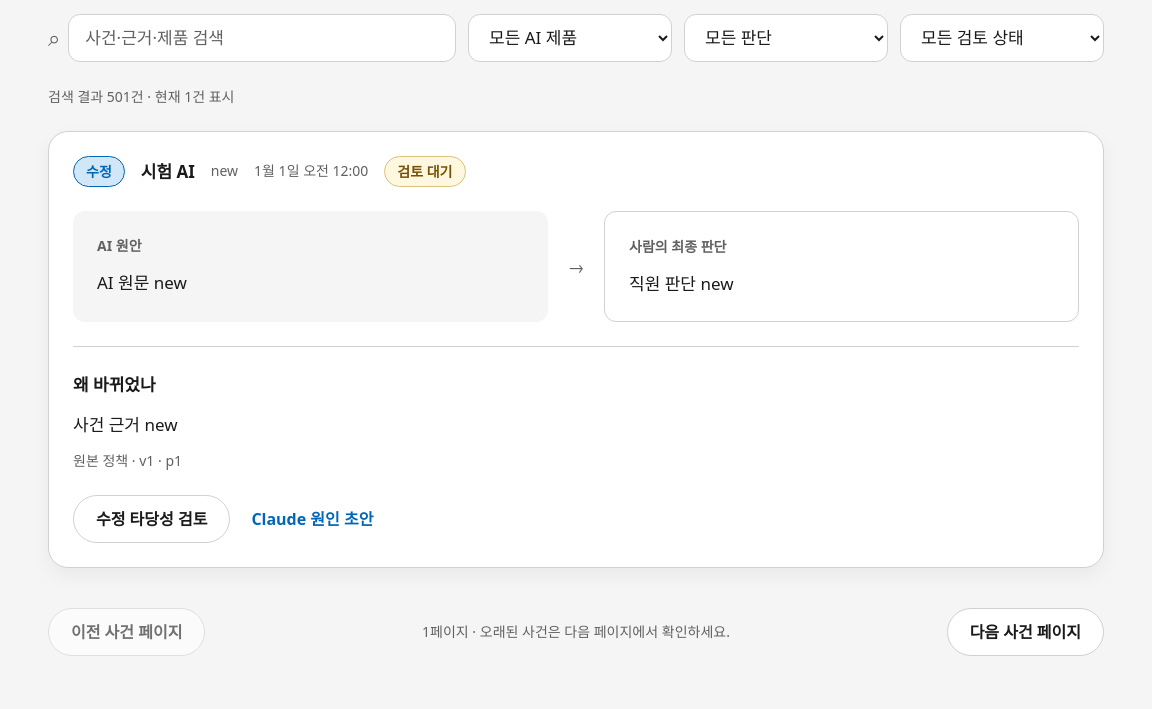
resets filters to the first page and never presents the stale page while a new filter is pending
The width and height of the screenshot is (1152, 709).
(page scrolled)
Click the button "다음 사건 페이지" at (1025, 632), box [947,608,1104,656]
(page scrolled)
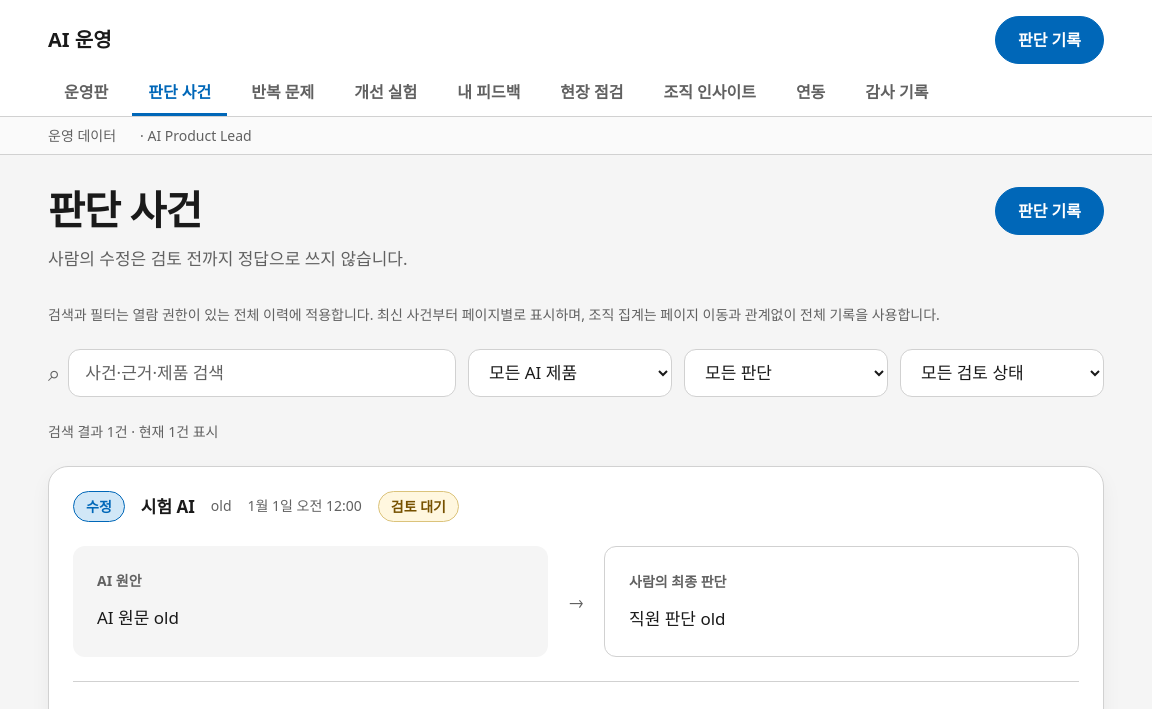
Expected: the text "AI 원문 old" is shown, [97,606,179,629]
Type "needle" into the field with placeholder "사건·근거·제품 검색" at (262, 373), box [68,349,456,397]
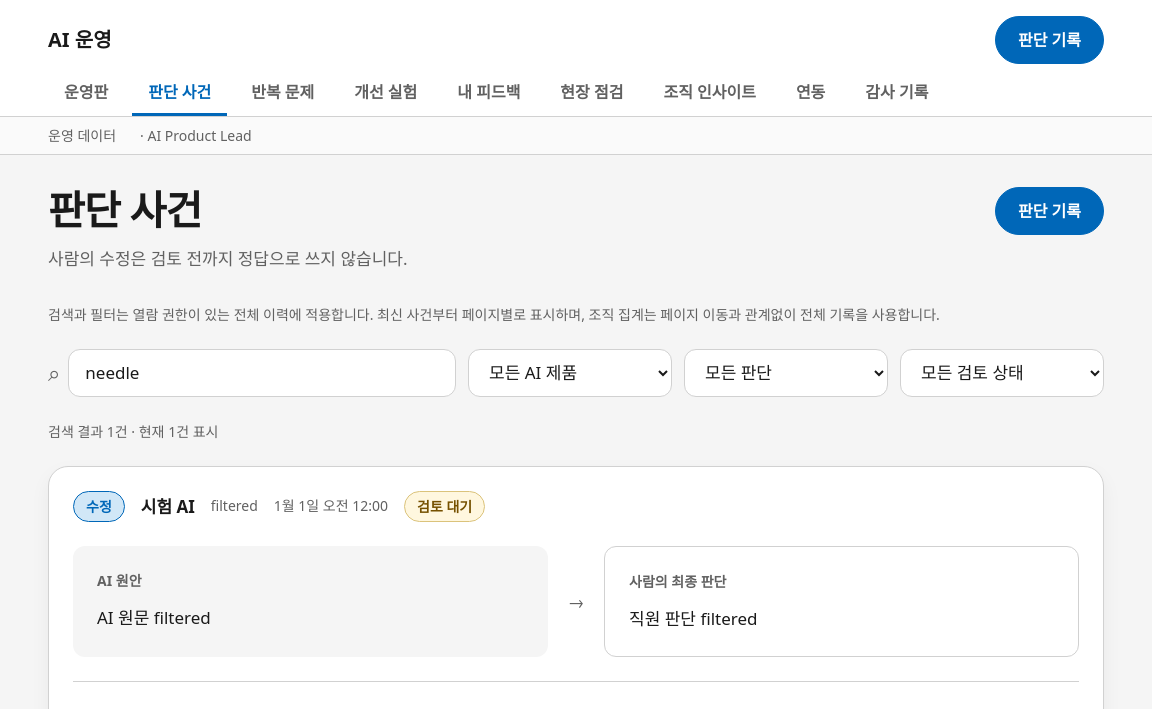
Expected: the text "AI 원문 old" is gone
Expected: the text "AI 원문 filtered" is shown, [97,606,211,629]
Clear the field with placeholder "사건·근거·제품 검색" at (262, 373), box [68,349,456,397]
(page scrolled)
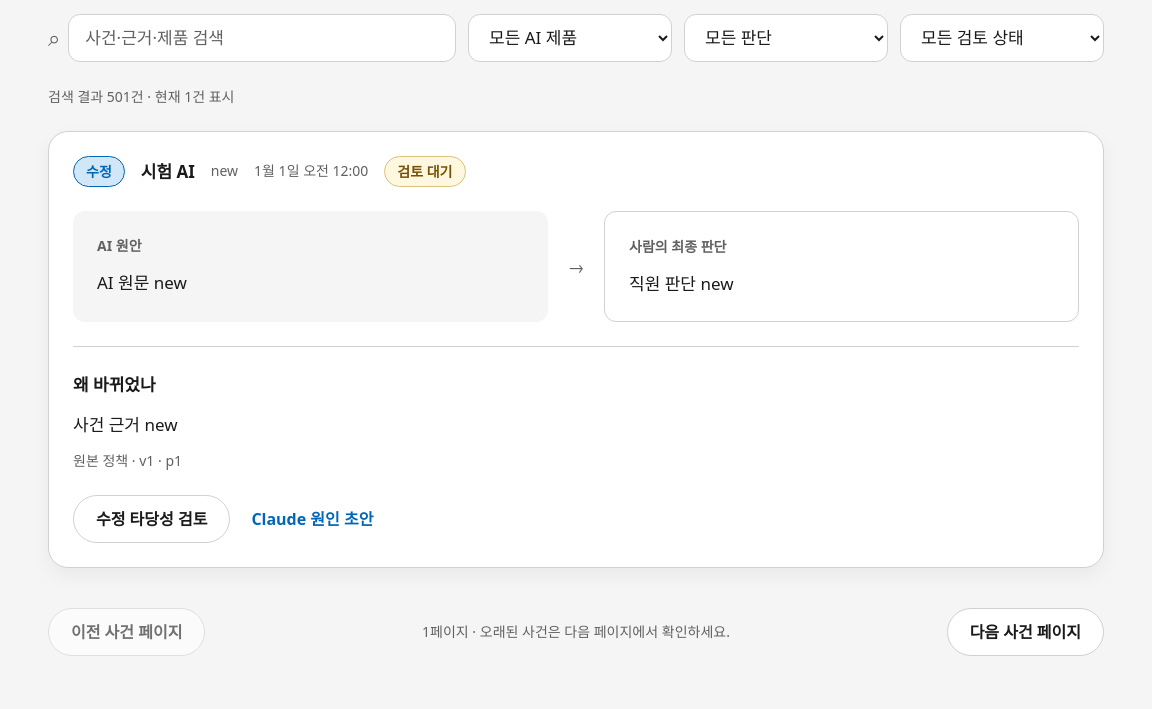
Expected: the text "AI 원문 old" is not shown
Expected: the text "AI 원문 new" is shown, [97,271,187,294]
Expected: the button "이전 사건 페이지" is disabled, [48,608,205,656]
